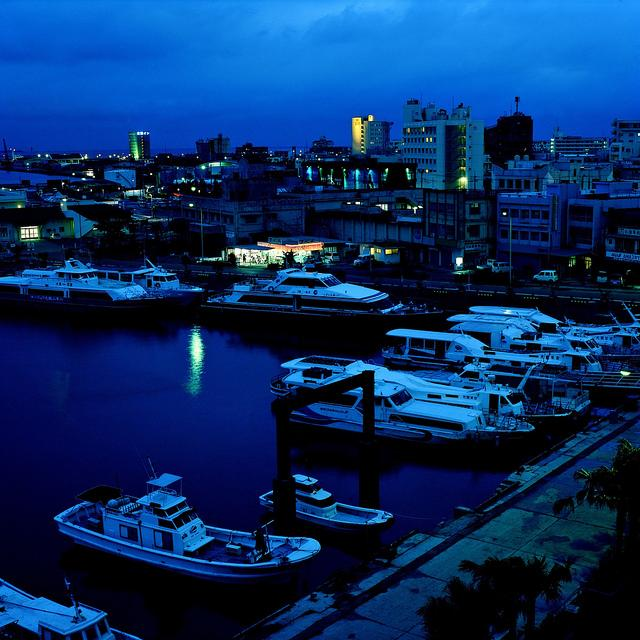Vehicle: (492, 262, 510, 274)
